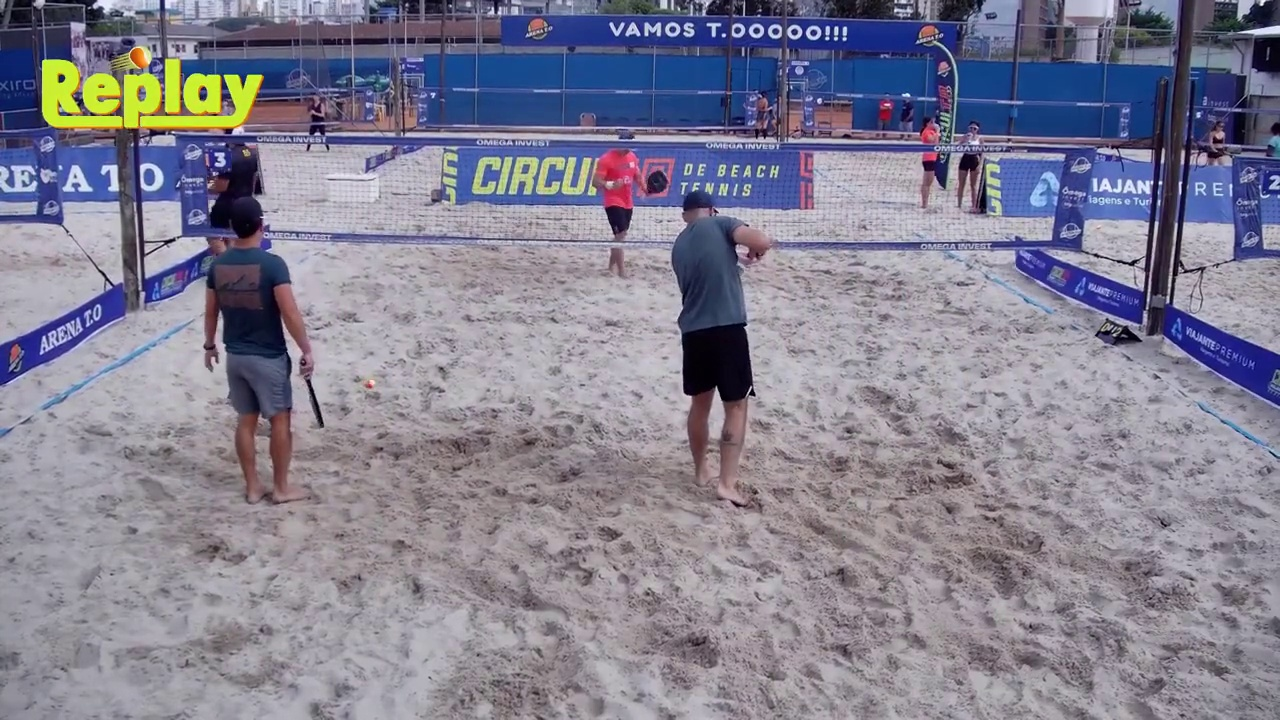court_line: (640, 0, 800, 332), (547, 0, 662, 343)
